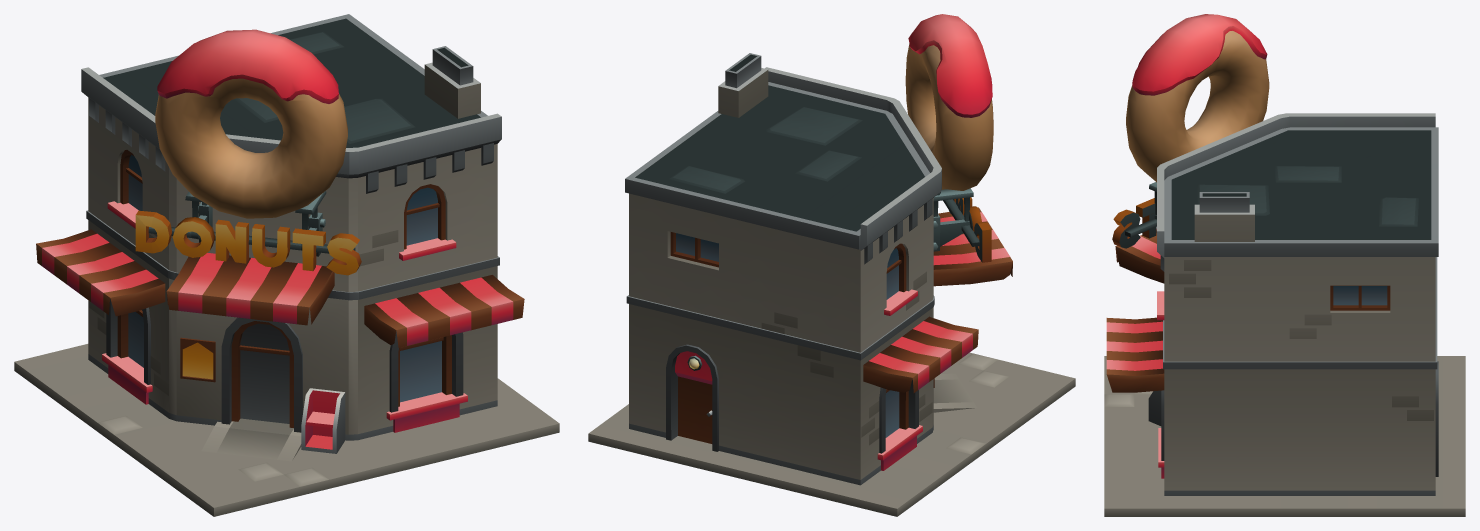
File: Building_9C.fbx
The picture shows the model from 3 angles, left to right: view 1: azimuth 30°, elevation 25°; view 2: azimuth 150°, elevation 25°; view 3: azimuth 270°, elevation 25°; orthographic projection. The views are drawn at different scales.
Parts seen in each view (by area): view 1: Building_9C, Donut_9C, Canopy_9C.M, Logo_9C, Canopy_9C.R, Canopy_9C.L; view 2: Building_9C, Donut_9C, Canopy_9C.L, Canopy_9C.M, Logo_9C; view 3: Building_9C, Donut_9C, Canopy_9C.R, Logo_9C, Canopy_9C.M.
Boxes of the visible parts, bbox=[...] form: Building_9C: bbox=[14, 14, 559, 516]; Donut_9C: bbox=[155, 29, 347, 218]; Canopy_9C.M: bbox=[166, 253, 334, 325]; Logo_9C: bbox=[135, 210, 361, 275]; Canopy_9C.R: bbox=[364, 275, 524, 347]; Canopy_9C.L: bbox=[36, 229, 165, 316]; Building_9C: bbox=[588, 53, 1075, 516]; Donut_9C: bbox=[905, 14, 993, 190]; Canopy_9C.L: bbox=[863, 316, 978, 392]; Canopy_9C.M: bbox=[933, 207, 1012, 286]; Logo_9C: bbox=[943, 197, 991, 262]; Building_9C: bbox=[1104, 113, 1465, 516]; Donut_9C: bbox=[1126, 14, 1269, 182]; Canopy_9C.R: bbox=[1106, 317, 1164, 392]; Logo_9C: bbox=[1112, 198, 1156, 248]; Canopy_9C.M: bbox=[1115, 229, 1164, 283].
Bounding box in the file's own units: 12 × 14.08 × 12.
